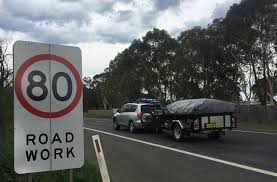Speed_limit_80km: (14, 54, 83, 118)
